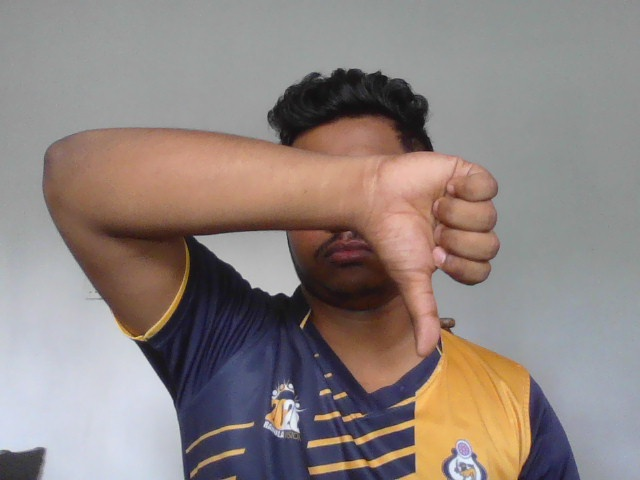Disagree: (365, 152, 502, 357)
